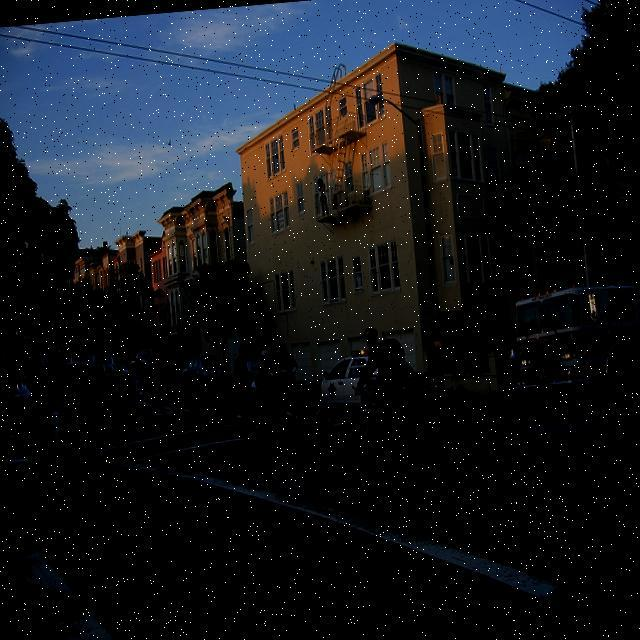fire_hydrant: (46, 410, 64, 450)
